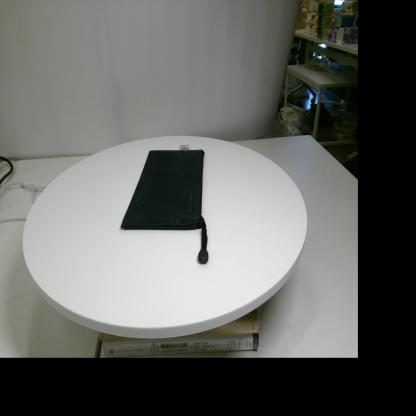Stationery: (120, 144, 208, 264)
